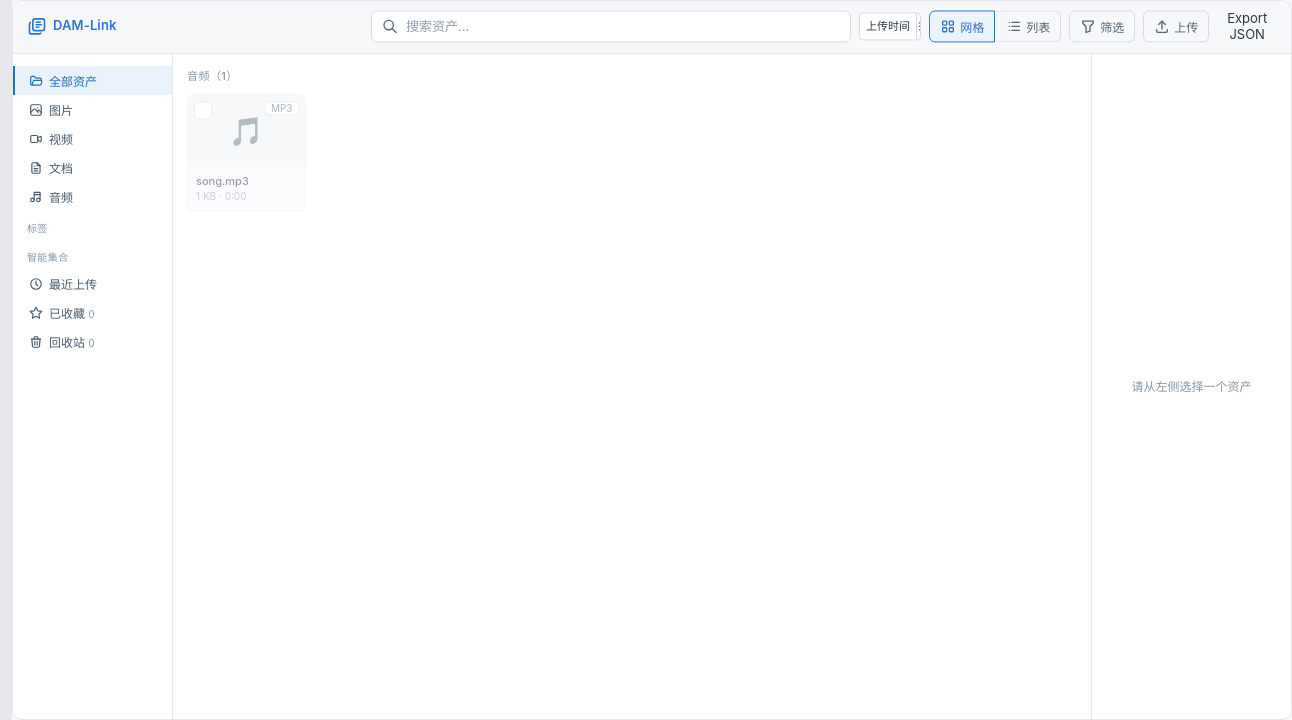
App — BatchActionBar handlers › clicking an audio card opens the DetailPanel without opening the Lightbox
The image size is (1292, 720).
Expected: the text "song.mp3" is shown, left=196, top=174, right=249, bottom=188
Click the button "🎵 MP3 song.mp3 1 KB · 0:00": (246, 153) left=187, top=94, right=306, bottom=211
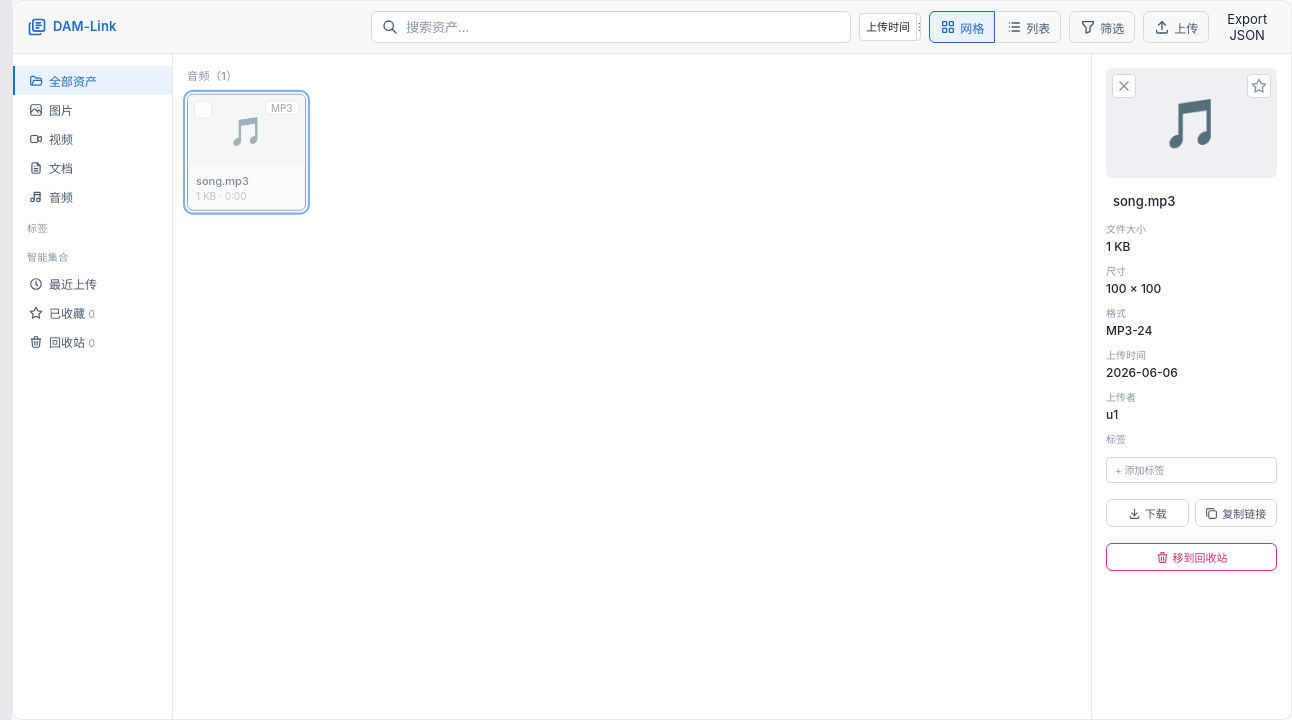
Expected: the button titled "点击重命名" reads "song.mp3", left=1106, top=190, right=1277, bottom=212
